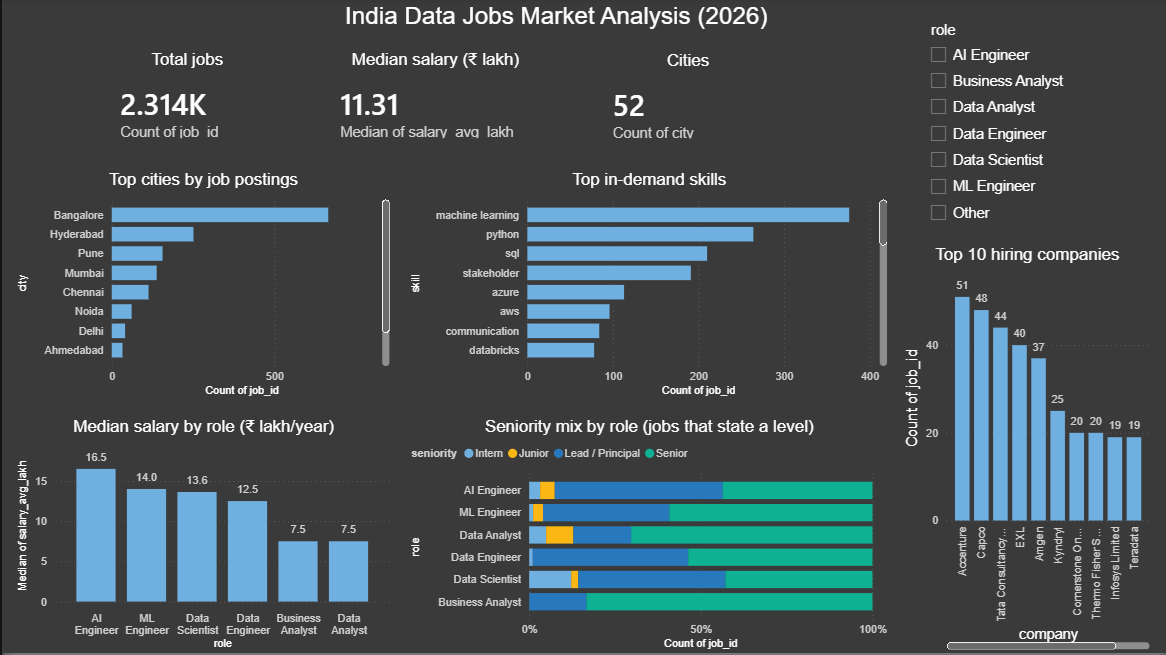

The page's visual inventory and layout, read from the dashboard file:
{"tool":"powerbi","page":{"name":"Page 1","canvas":[1280,720],"ordinal":0},"visuals":[{"type":"cardVisual","title":"Total jobs","fields":{"Data":["CountNonNull(jobs_clean.job_id)"]},"box":[98.8,56.3,207.2,116.6],"z":0},{"type":"cardVisual","title":"Median salary (₹ lakh)","fields":{"Data":["Median(jobs_clean.salary_avg_lakh)"]},"box":[340.3,56.3,269,116.6],"z":1000},{"type":"cardVisual","title":"Cities","fields":{"Data":["Count(jobs_clean.city)"]},"box":[639.5,57.6,225,115.3],"z":2000},{"type":"barChart","title":"Top cities by job postings","fields":{"Category":["jobs_clean.city"],"Y":["CountNonNull(jobs_clean.job_id)"]},"box":[11,188,418.5,253.9],"z":3000},{"type":"columnChart","title":"Median salary by role (₹ lakh/year)","fields":{"Category":["jobs_clean.role"],"Y":["Median(jobs_clean.salary_avg_lakh)"]},"box":[11,459.7,418.5,260.7],"z":4000},{"type":"hundredPercentStackedBarChart","title":"Seniority mix by role (jobs that state a level)","fields":{"Category":["jobs_clean.role"],"Y":["CountNonNull(jobs_clean.job_id)"],"Series":["jobs_clean.seniority"]},"box":[443.2,459.7,532.4,260.7],"z":5000},{"type":"textbox","box":[370.5,0,476.2,45.3],"z":6000},{"type":"slicer","fields":{"Values":["jobs_clean.role"]},"box":[1005.8,22,258,233.3],"z":7000},{"type":"clusteredColumnChart","title":"Top 10 hiring companies","fields":{"Category":["jobs_clean.company"],"Y":["CountNonNull(jobs_clean.job_id)"]},"box":[985.3,270.3,278.6,450.1],"z":8000},{"type":"barChart","title":"Top in-demand skills","fields":{"Category":["job_skills.skill"],"Y":["CountNonNull(job_skills.job_id)"]},"box":[443.2,188,532.4,253.9],"z":9000}]}

Visuals, with their boxes in screenshot pixels (x1, y1, x2, y2), scaled from the page's 1280x720 canvas onto the 1166x655 screenshot:
"Total jobs" cardVisual: (90, 51, 279, 157)
"Median salary (₹ lakh)" cardVisual: (310, 51, 555, 157)
"Cities" cardVisual: (583, 52, 788, 157)
"Top cities by job postings" barChart: (10, 171, 391, 402)
"Median salary by role (₹ lakh/year)" columnChart: (10, 418, 391, 654)
"Seniority mix by role (jobs that state a level)" hundredPercentStackedBarChart: (404, 418, 889, 654)
textbox: (338, 0, 771, 41)
slicer - jobs_clean.role: (916, 20, 1151, 232)
"Top 10 hiring companies" clusteredColumnChart: (898, 246, 1151, 654)
"Top in-demand skills" barChart: (404, 171, 889, 402)
